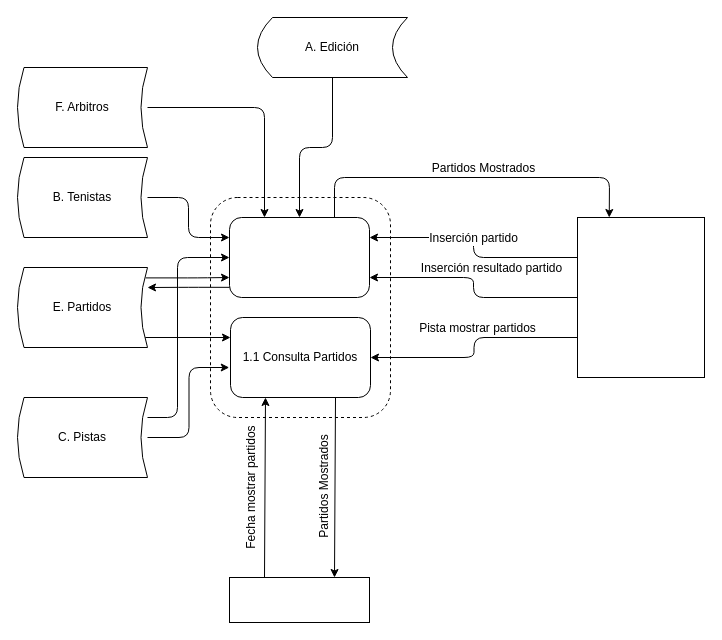
This 722x640 diagram has some shape labels left out. The centre of each missing label's shape, as x and y in pixels:
"1.2 Insercion Datos Partidos" goes at (x=299, y=257).
"Entrenador" goes at (x=299, y=599).
"Gestor del torneo" goes at (x=640, y=297).
